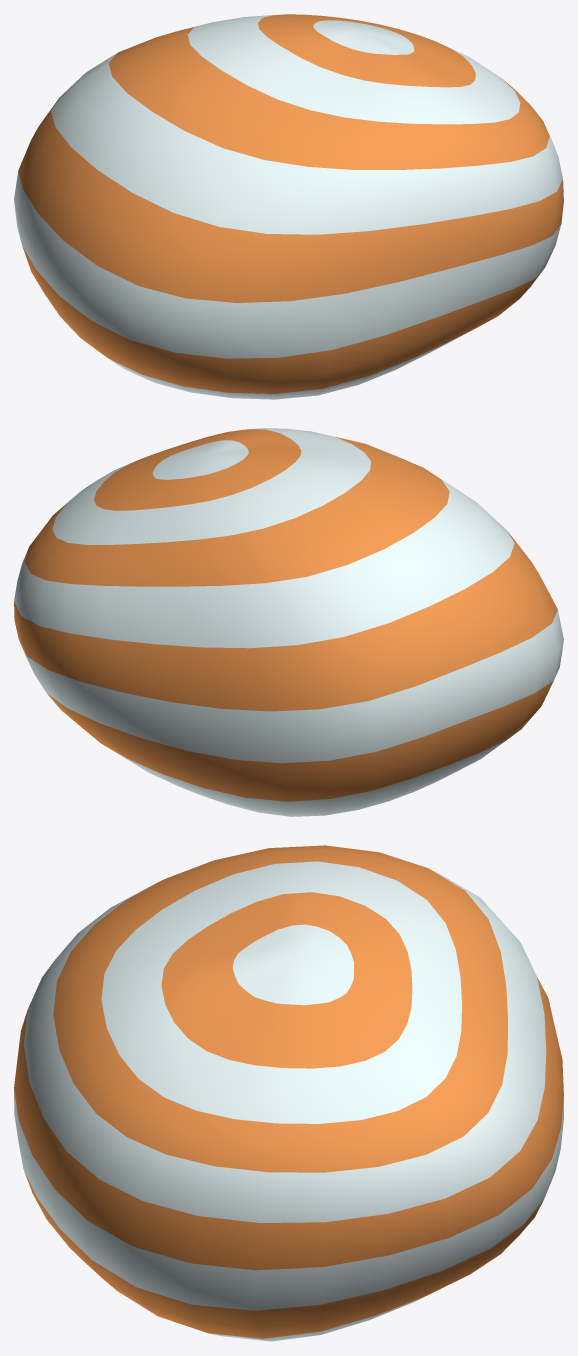
Rendered from CandyPlant_B_02.fbx.
The picture shows the model from 3 angles, top to bottom: view 1: azimuth 30°, elevation 25°; view 2: azimuth 150°, elevation 25°; view 3: azimuth 270°, elevation 25°; orthographic projection. The views are drawn at different scales.
Visible parts, largest first — view 1: CandyPlant_B_02_LOD0; view 2: CandyPlant_B_02_LOD0; view 3: CandyPlant_B_02_LOD0.
Part boxes in pixels (<box>): CandyPlant_B_02_LOD0: <box>14,14,563,399</box>; CandyPlant_B_02_LOD0: <box>14,428,563,816</box>; CandyPlant_B_02_LOD0: <box>14,845,563,1341</box>.
Size of what is drawn, in the model's own units: 573 by 345 by 467.
